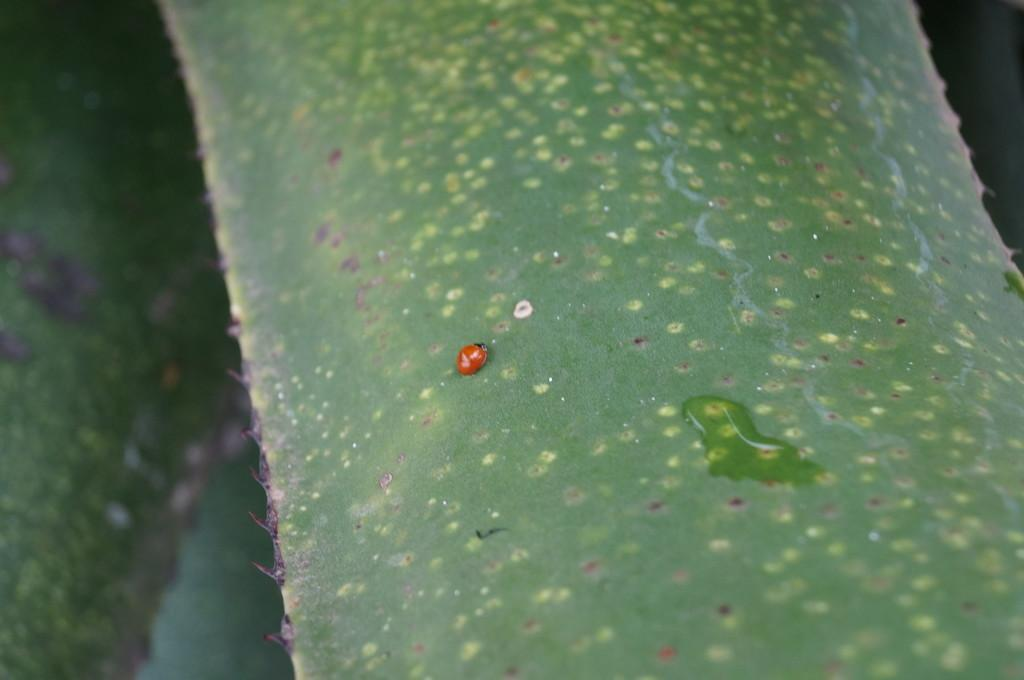ladybug: (457, 342, 491, 378)
